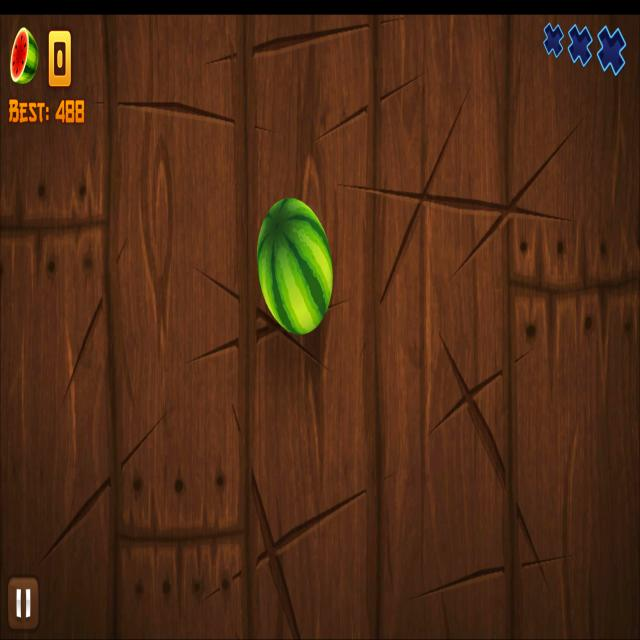fruit: (256, 197, 335, 336)
